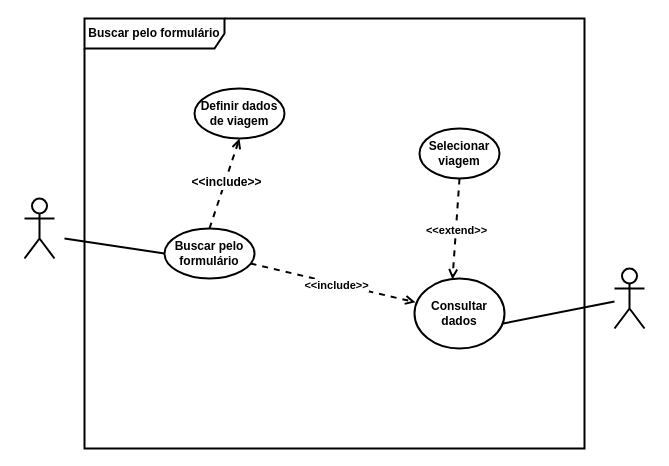
Image size: 669x466. Some labels were removed from this diagram. The box of each missing label's shape, as (x1, y1, x2, y2) in pixels:
API de viagens: (613, 267, 645, 329)
Usuário: (23, 197, 55, 259)
